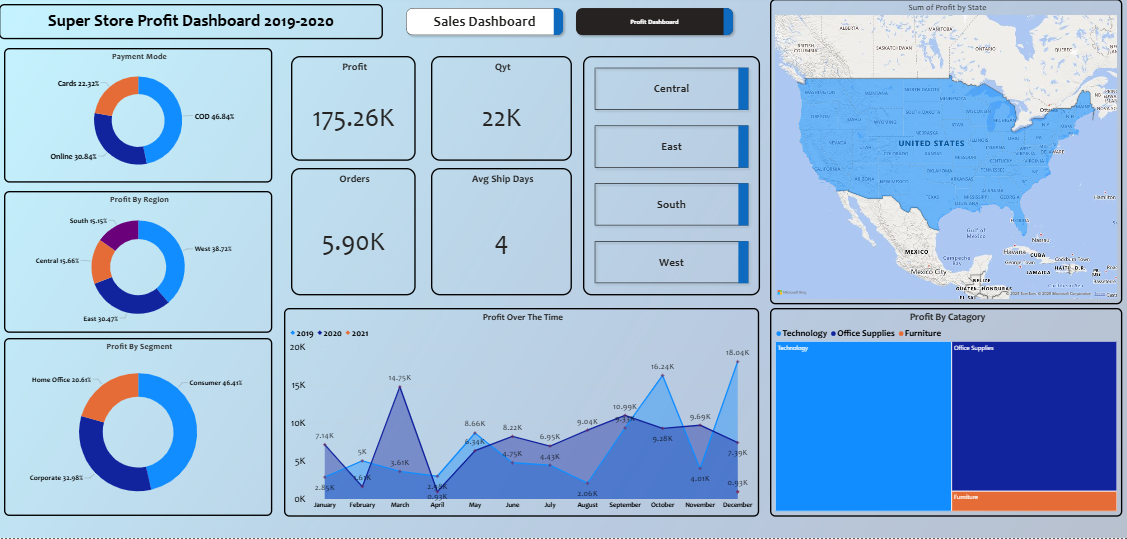

The dashboard page shown, as its layout file describes it:
{"tool":"powerbi","page":{"name":"Profit Dashboard","canvas":[2500,1200],"ordinal":1},"visuals":[{"type":"textbox","box":[0,17.5,850,77.5],"z":0},{"type":"advancedSlicerVisual","fields":{"Values":["Sheet1.Region"]},"box":[1292,132,392,530],"z":1000},{"type":"donutChart","title":" Payment Mode","fields":{"Category":["Sheet1.Payment Mode"],"Y":["Sum(Sheet1.Profit)"]},"box":[12,116,594,298],"z":2000},{"type":"donutChart","title":"Profit By Region","fields":{"Category":["Sheet1.Region"],"Y":["Sum(Sheet1.Profit)"]},"box":[12,432,594,314],"z":3000},{"type":"donutChart","title":"Profit By Segment","fields":{"Category":["Sheet1.Segment"],"Y":["Sum(Sheet1.Profit)"]},"box":[12,758,594,394],"z":4000},{"type":"card","title":"Orders","fields":{"Values":["CountNonNull(Sheet1.Order ID)"]},"box":[646,380,276,282],"z":5000},{"type":"card","title":"Profit","fields":{"Values":["Sum(Sheet1.Profit)"]},"box":[646,132,276,232],"z":6000},{"type":"card","title":"Qyt","fields":{"Values":["Sum(Sheet1.Quantity)"]},"box":[956,132,312,232],"z":7000},{"type":"card","title":"Avg Ship Days","fields":{"Values":["Avg(Sheet1.Avg Day To Delivary)"]},"box":[956,380,312,282],"z":8000},{"type":"areaChart","title":"Profit Over The Time","fields":{"Category":["Sheet1.Order Date.Variation.Date Hierarchy.Month"],"Y":["Sum(Sheet1.Profit)"],"Series":["Sheet1.Ship Date.Variation.Date Hierarchy.Year"]},"box":[631.7,690,1051.7,461.7],"z":9000},{"type":"filledMap","fields":{"Category":["Sheet1.State"]},"box":[1706,6,780,676],"z":10000},{"type":"treemap","title":"Profit By Catagory","fields":{"Group":["Sheet1.Category"],"Values":["Sum(Sheet1.Profit)"]},"box":[1706,690,780,462],"z":11000},{"type":"pageNavigator","box":[891.7,18.3,743.3,78.3],"z":12000}]}

Visuals, with their boxes in screenshot pixels (x1, y1, x2, y2), scaled from the page's 2500x1200 canvas onto the 1127x539 screenshot:
textbox: 0 8 383 43
advancedSlicerVisual - Sheet1.Region: 582 59 759 297
" Payment Mode" donutChart: 5 52 273 186
"Profit By Region" donutChart: 5 194 273 335
"Profit By Segment" donutChart: 5 340 273 517
"Orders" card: 291 171 416 297
"Profit" card: 291 59 416 163
"Qyt" card: 431 59 572 163
"Avg Ship Days" card: 431 171 572 297
"Profit Over The Time" areaChart: 285 310 759 517
filledMap - Sheet1.State: 769 3 1121 306
"Profit By Catagory" treemap: 769 310 1121 517
pageNavigator: 402 8 737 43
